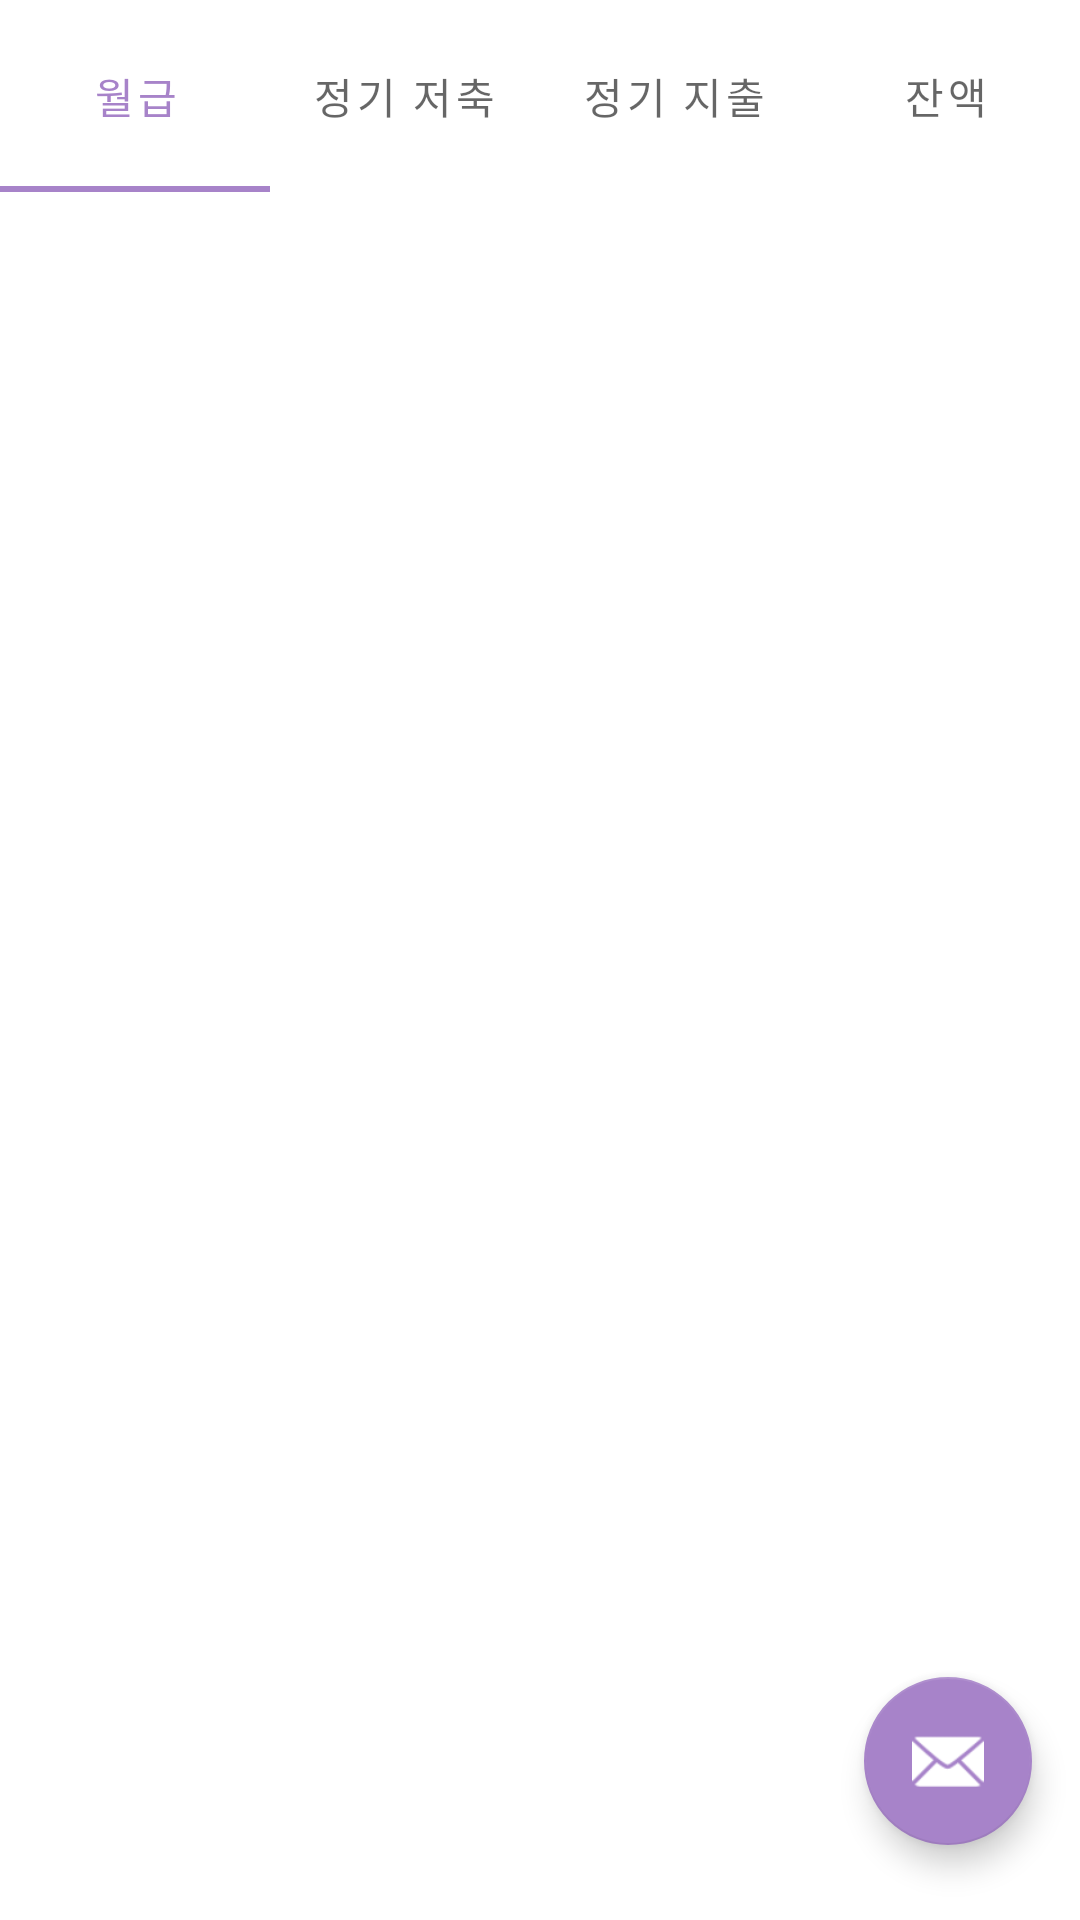

Named icons in this screenshot (1080w x 1920h) and their bounding boxes, (left=x1, top=y1, right=x2, bottom=y2):
email: (left=864, top=1677, right=1032, bottom=1845)
